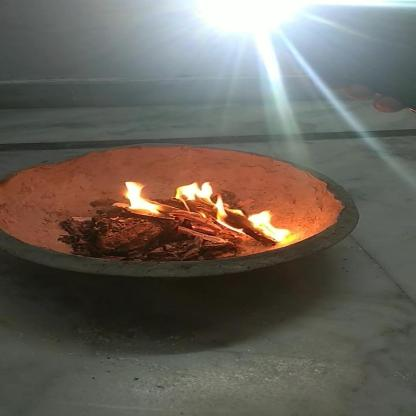fire: (172, 178, 237, 233), (240, 202, 294, 246), (113, 178, 167, 221)
